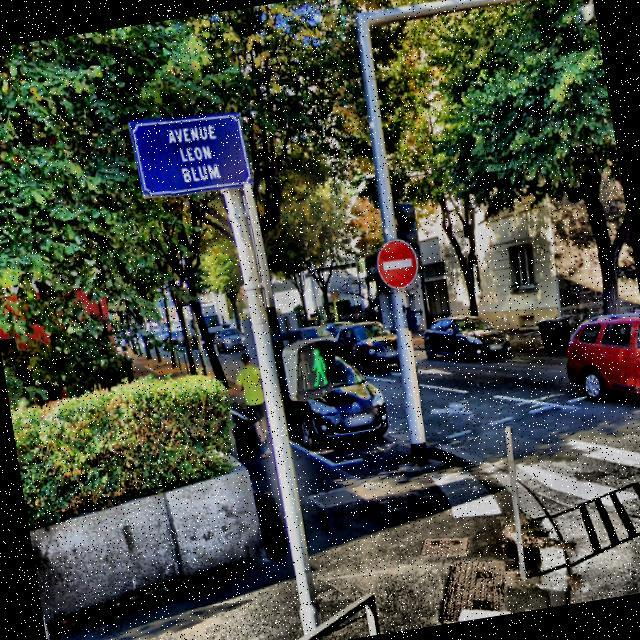green_light: (304, 344, 330, 388)
